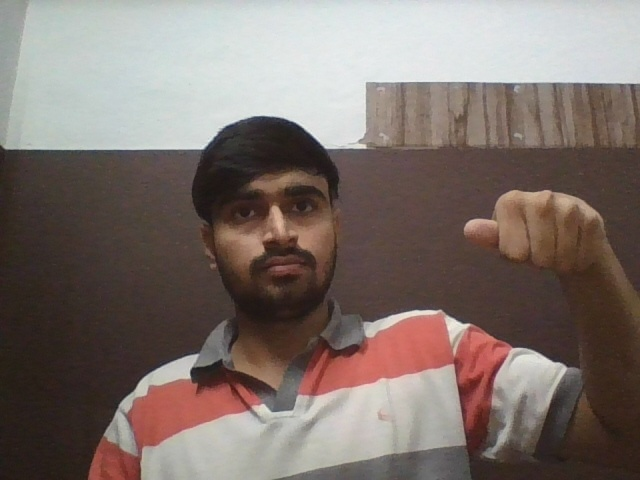Yes: (460, 188, 605, 273)
